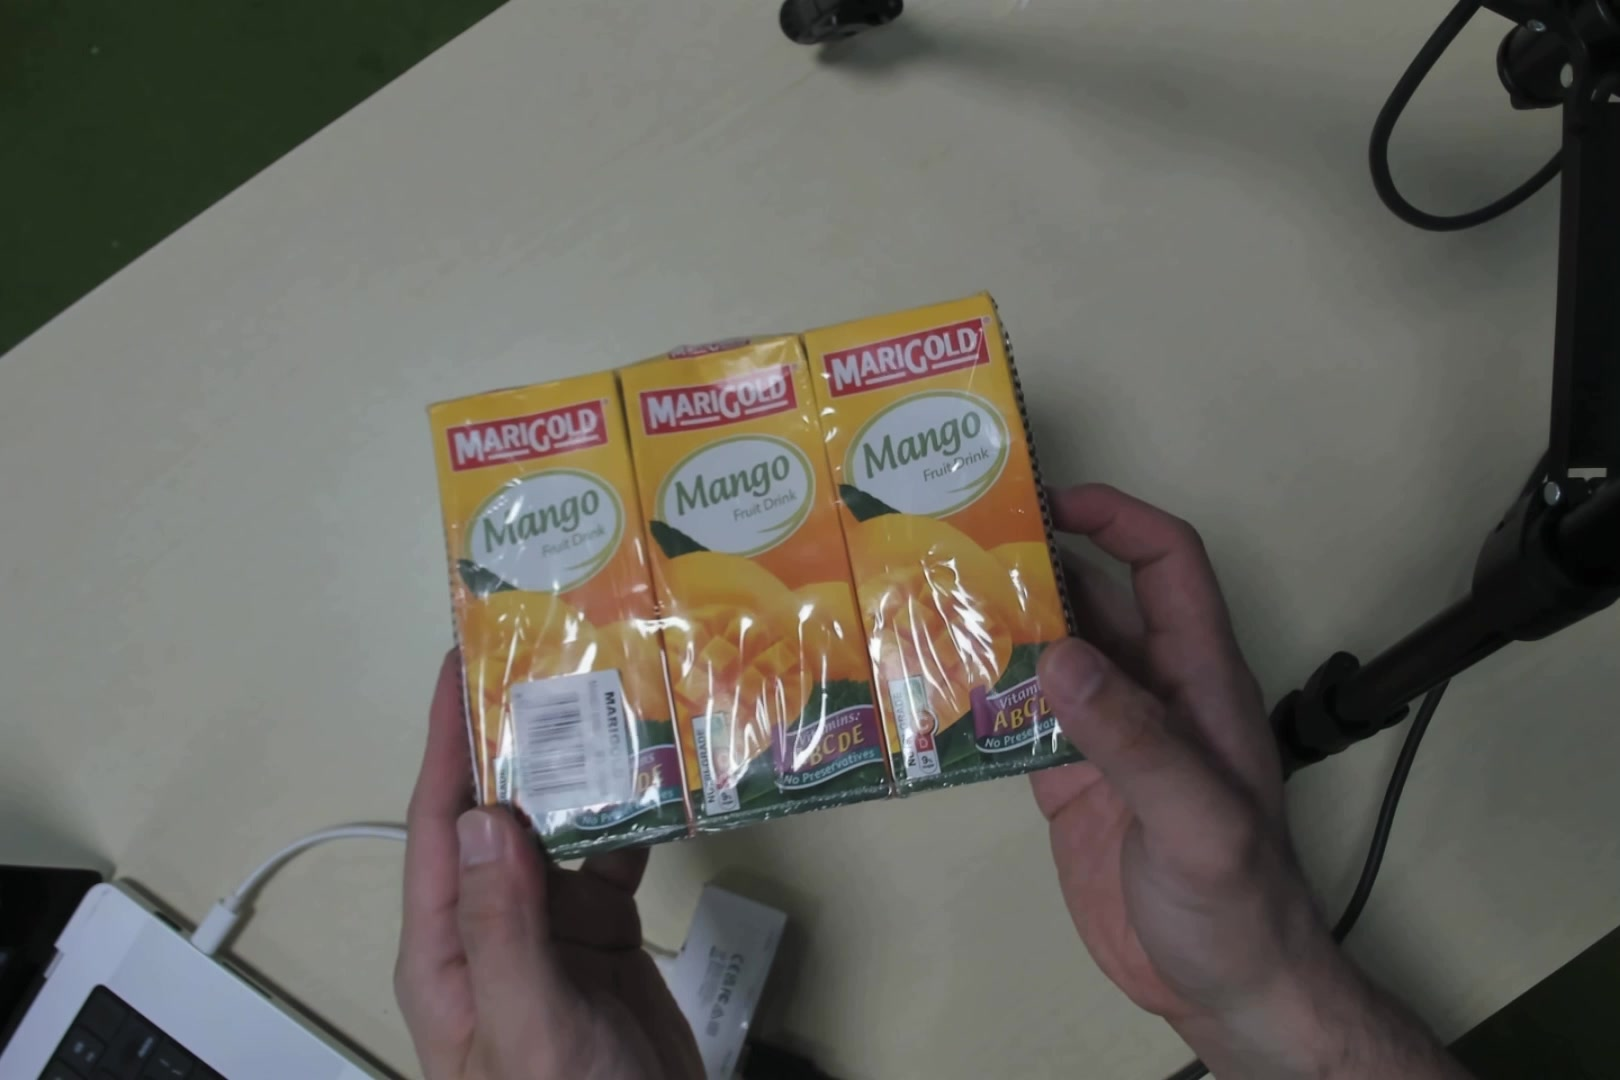FruitJuice_700-799g_Halal_NonHealthy: (438, 312, 1082, 824)
